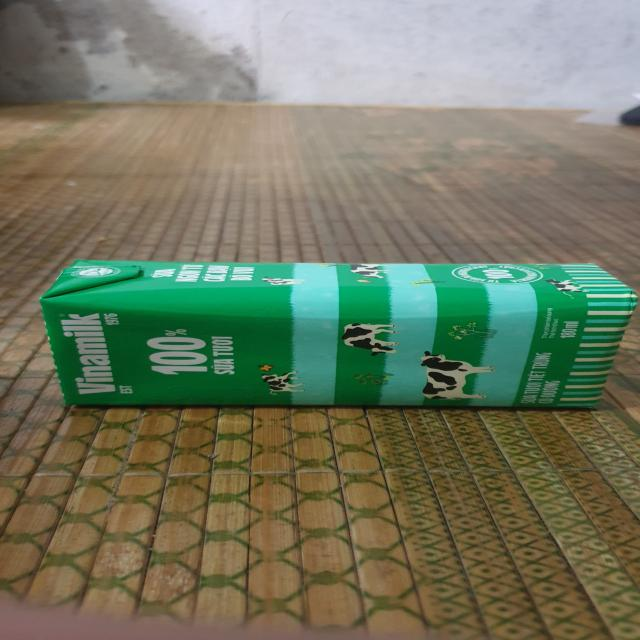Vina: (33, 252, 640, 411)
